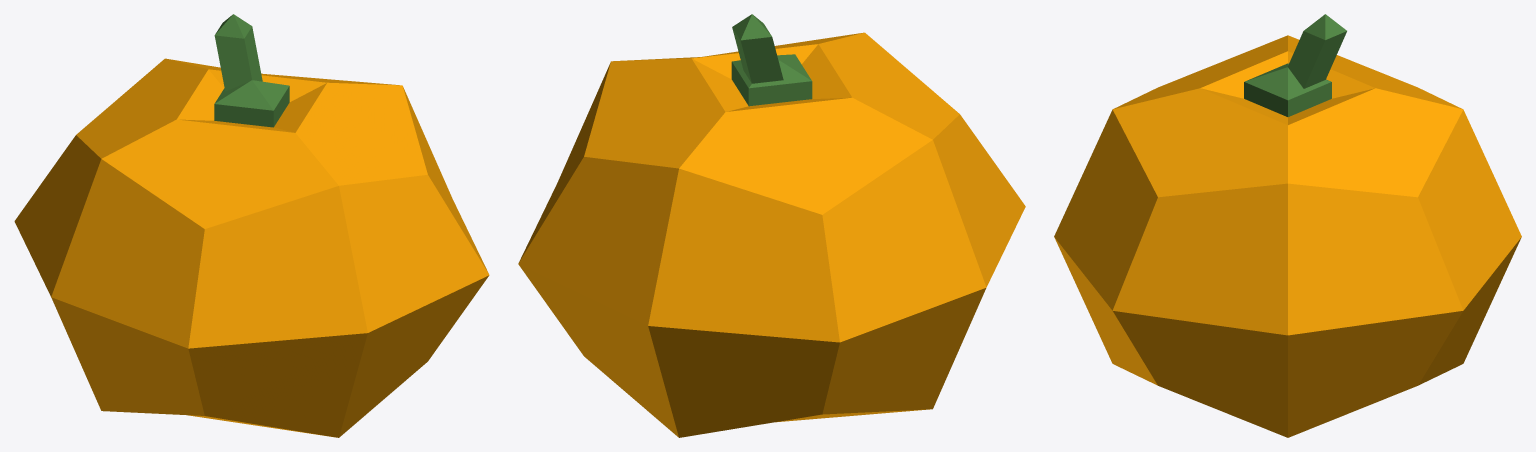
The model's file is Cutie.fbx.
3 views of the same model, side by side, from view 1: azimuth 30°, elevation 25°; view 2: azimuth 150°, elevation 25°; view 3: azimuth 270°, elevation 25° (orthographic). The views are drawn at different scales.
Parts seen in each view (by area): view 1: Cube, Cube.002, Cube.001; view 2: Cube, Cube.002, Cube.001; view 3: Cube, Cube.002, Cube.001.
Part boxes in pixels (left/top/right/bottom): Cube: left=14, top=58, right=489, bottom=437; Cube.002: left=214, top=80, right=289, bottom=127; Cube.001: left=214, top=14, right=262, bottom=91; Cube: left=518, top=32, right=1025, bottom=437; Cube.002: left=731, top=54, right=812, bottom=106; Cube.001: left=732, top=14, right=783, bottom=83; Cube: left=1054, top=35, right=1521, bottom=437; Cube.002: left=1244, top=63, right=1331, bottom=116; Cube.001: left=1287, top=14, right=1346, bottom=88.
Size of the model in its own units: 250 by 219 by 250.
